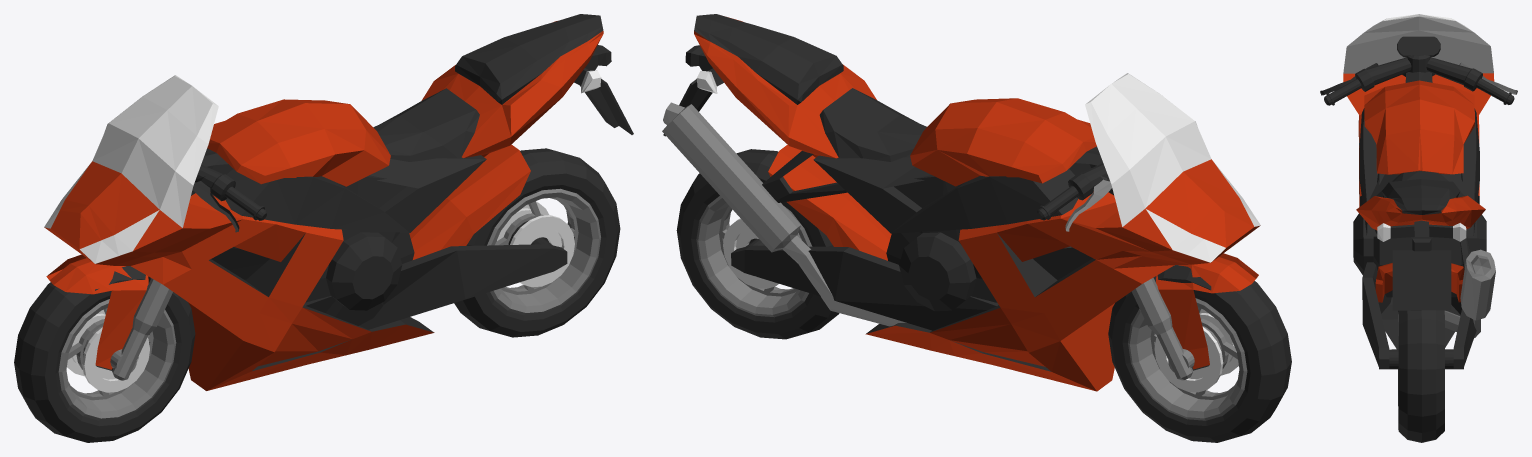
The model's file is motorcycle_lev3.glb.
The picture shows the model from 3 angles, left to right: view 1: azimuth 30°, elevation 25°; view 2: azimuth 150°, elevation 25°; view 3: azimuth 270°, elevation 25°; orthographic projection. The views are drawn at different scales.
Parts seen in each view (by area): view 1: motorcycle_lev3; view 2: motorcycle_lev3; view 3: motorcycle_lev3.
Part boxes in pixels (left/top/right/bottom): motorcycle_lev3: left=14, top=14, right=633, bottom=442; motorcycle_lev3: left=662, top=14, right=1291, bottom=442; motorcycle_lev3: left=1320, top=14, right=1517, bottom=442.
Size of the model in its own units: 3.79 by 2 by 1.27.
Materials: 1 (1 with a texture image).
